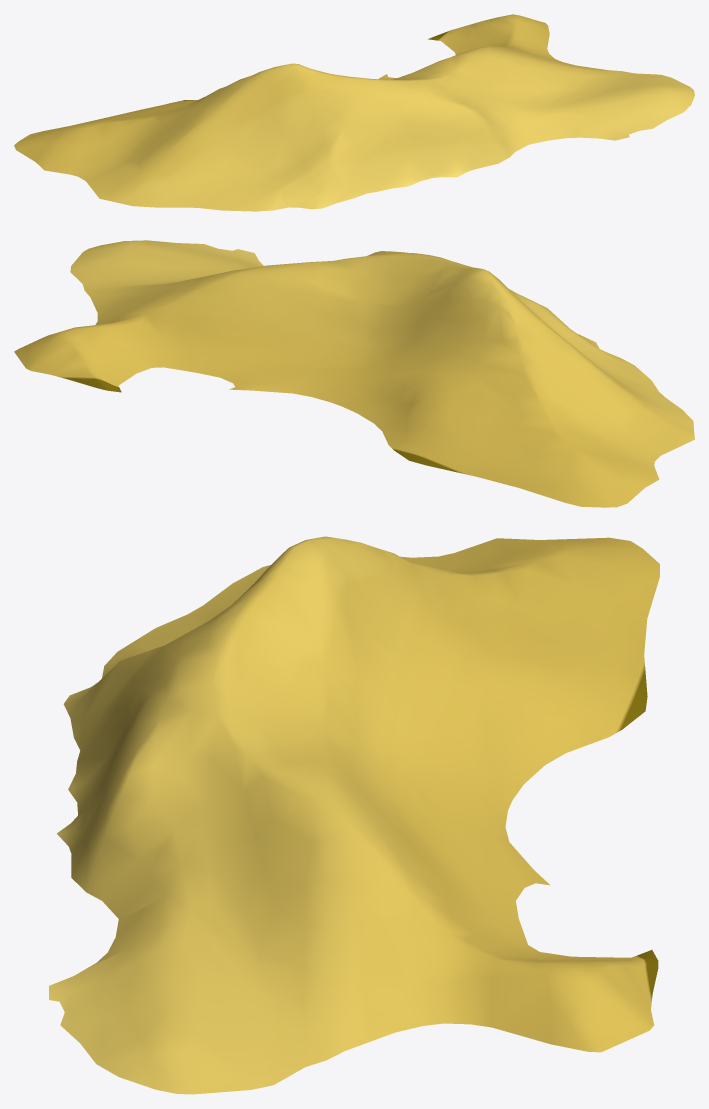
Rendered from SM_SandDune.FBX.
The picture shows the model from 3 angles, top to bottom: view 1: azimuth 30°, elevation 25°; view 2: azimuth 150°, elevation 25°; view 3: azimuth 270°, elevation 25°; orthographic projection. The views are drawn at different scales.
Parts seen in each view (by area): view 1: Plane001; view 2: Plane001; view 3: Plane001.
Part boxes in pixels (x1,y1,x2,y2): Plane001: [14, 14, 694, 211]; Plane001: [14, 240, 694, 507]; Plane001: [49, 536, 659, 1094].
Bounding box in the file's own units: 104 × 16.45 × 48.35.
Materials: 1 (1 with a texture image).
